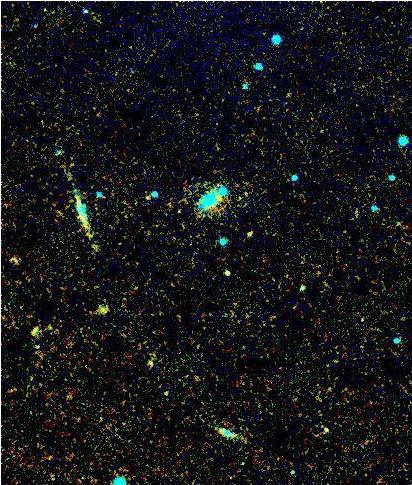star: (134, 182, 164, 212)
